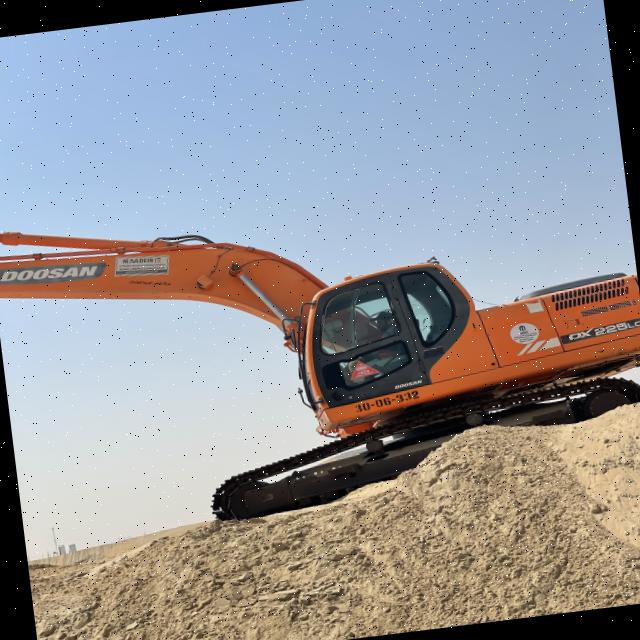Excavator: (0, 150, 640, 549)
